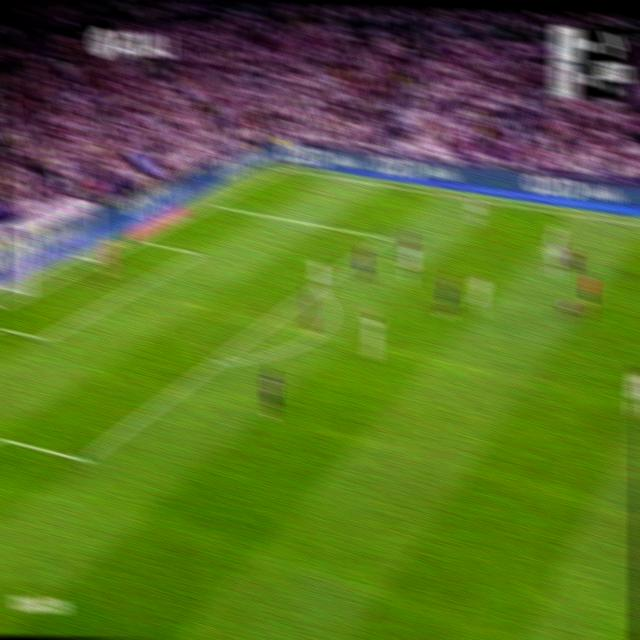bigarea_bottom_inner: (73, 444, 92, 474)
bigarea_top_inner: (376, 229, 389, 244)
bigarea_top_outter: (205, 195, 219, 210)
bottom_arc_area_intersection: (207, 351, 223, 372)
corner: (276, 161, 290, 174)
smallarea_top_inner: (190, 244, 204, 259)
